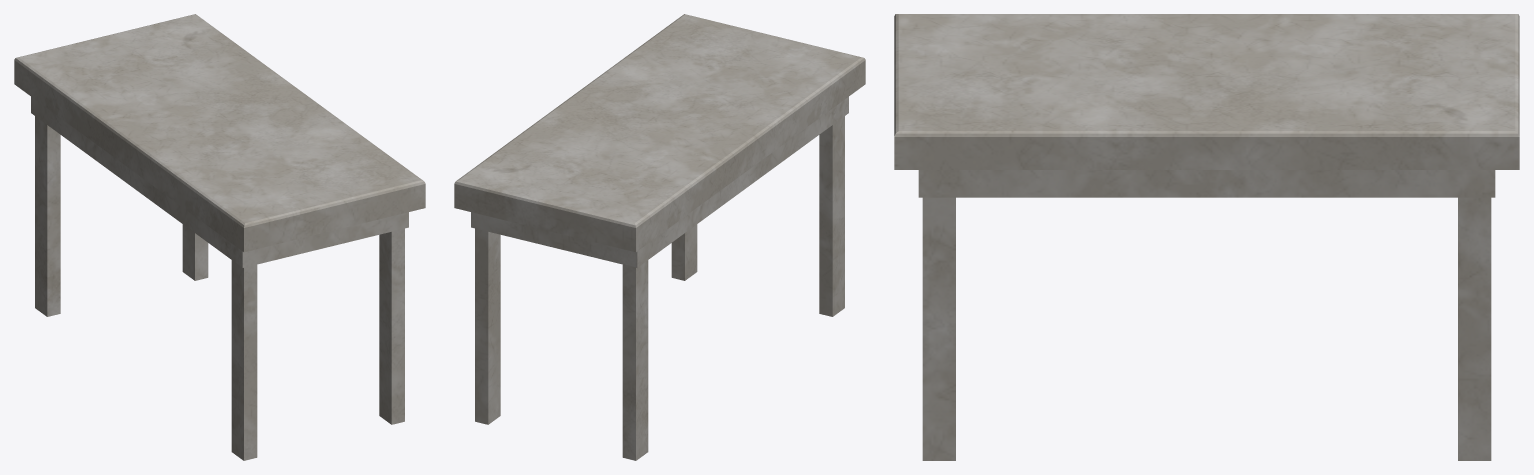
The model's file is SCIENCE TABLE.fbx.
3 renders of one model, left to right at view 1: azimuth 30°, elevation 25°; view 2: azimuth 150°, elevation 25°; view 3: azimuth 270°, elevation 25°, orthographic. The views are drawn at different scales.
Visible parts, largest first — view 1: Cube; view 2: Cube; view 3: Cube.
Boxes of the visible parts, x1,y1,x2,y2 form: Cube: (14, 14, 425, 460); Cube: (454, 14, 865, 460); Cube: (894, 14, 1519, 460).
Size of the model in its own units: 91.37 by 118 by 200.
